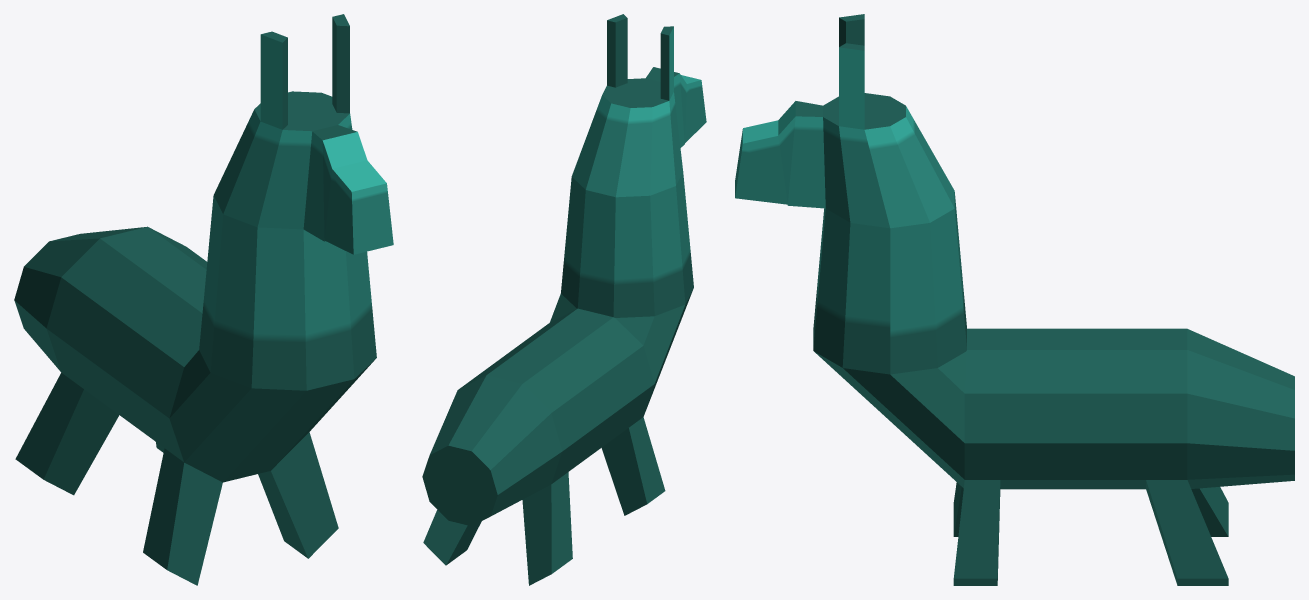
File: llama 3.fbx
The picture shows the model from 3 angles, left to right: view 1: azimuth 30°, elevation 25°; view 2: azimuth 150°, elevation 25°; view 3: azimuth 270°, elevation 25°; orthographic projection. The views are drawn at different scales.
Visible parts, largest first — view 1: Cylinder.010; view 2: Cylinder.010; view 3: Cylinder.010.
Part boxes in pixels (left/top/right/bottom): Cylinder.010: left=14, top=14, right=393, bottom=585; Cylinder.010: left=422, top=14, right=706, bottom=585; Cylinder.010: left=735, top=14, right=1294, bottom=585.
Bounding box in the file's own units: 28.38 × 92.33 × 88.54.
